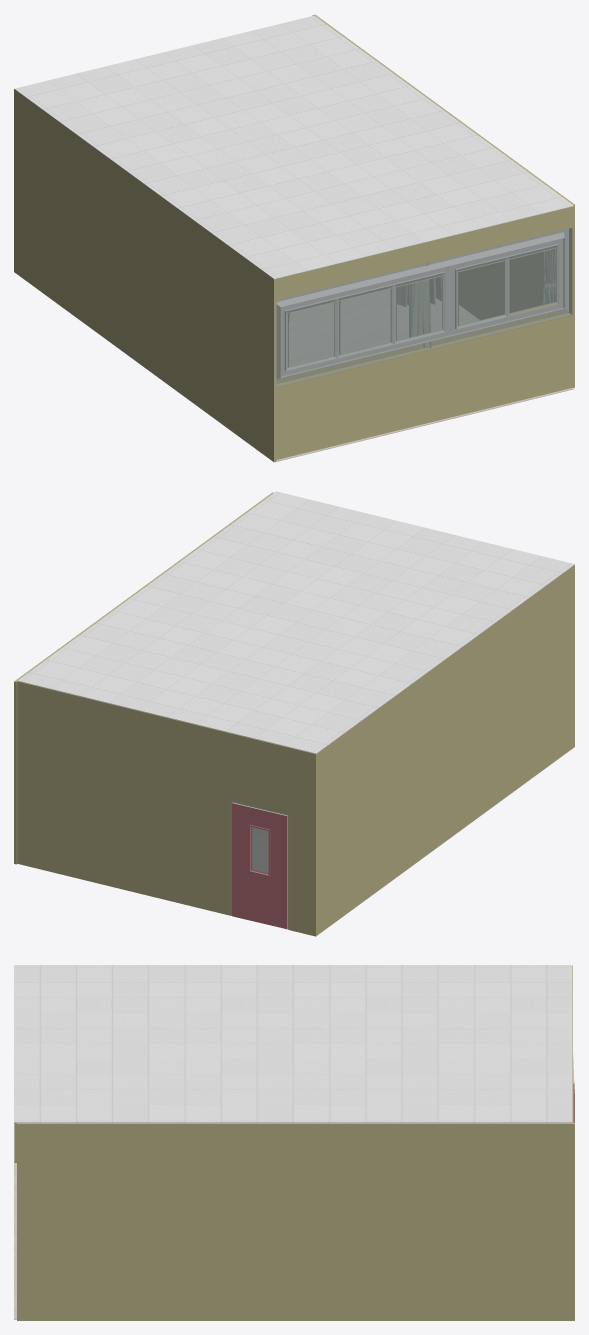
3 views of the same model, one above another, from view 1: azimuth 30°, elevation 25°; view 2: azimuth 150°, elevation 25°; view 3: azimuth 270°, elevation 25° (orthographic). The views are drawn at different scales.
Visible parts, largest first — view 1: Box300, Box014, Box010, Box006, Box005, Plane008, Plane005; view 2: Box300, Box012, Box010, PivotDoor002, Box005, Box006; view 3: Box005, Box300, Box006.
Boxes of the visible parts, box(x1,y1,x2,y2) form: Box300: box(14, 15, 573, 279); Box014: box(269, 206, 572, 460); Box010: box(14, 90, 276, 461); Box006: box(15, 272, 573, 462); Box005: box(312, 14, 574, 387); Plane008: box(409, 263, 431, 348); Plane005: box(543, 249, 555, 317); Box300: box(18, 491, 574, 753); Box012: box(17, 681, 316, 936); Box010: box(316, 565, 574, 935); PivotDoor002: box(231, 801, 288, 929); Box005: box(14, 492, 273, 864); Box006: box(253, 747, 574, 935); Box005: box(17, 1122, 574, 1320); Box300: box(14, 965, 572, 1122); Box006: box(14, 1162, 16, 1319).
Bounding box in the file's own units: 238 × 138 × 356.
10 materials, 5 textured.
